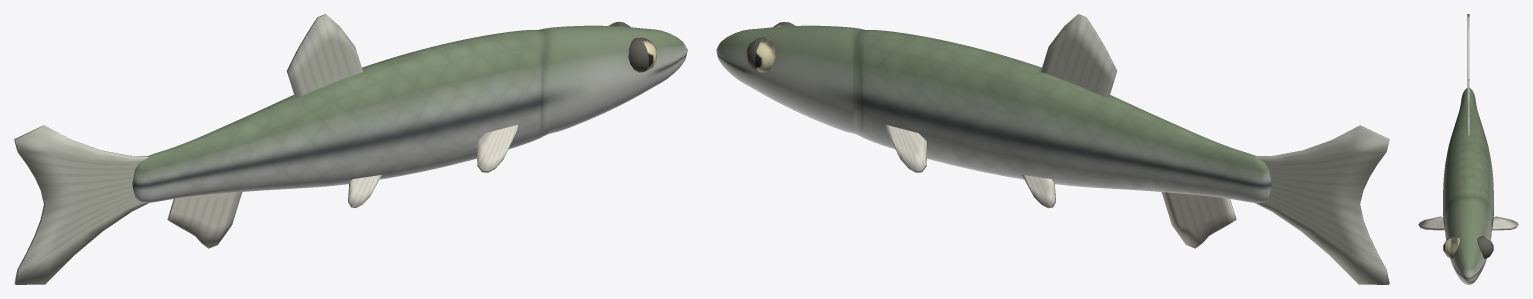
File: fish_minnow.fbx
3 views of the same model, side by side, from view 1: azimuth 30°, elevation 25°; view 2: azimuth 150°, elevation 25°; view 3: azimuth 270°, elevation 25° (orthographic). The views are drawn at different scales.
Visible parts, largest first — view 1: fish_minnow; view 2: fish_minnow; view 3: fish_minnow.
Boxes of the visible parts, x1,y1,x2,y2 form: fish_minnow: (14,14,687,284); fish_minnow: (716,14,1389,284); fish_minnow: (1418,14,1518,284).
Bounding box in the file's own units: 7.97 × 2.32 × 1.57.
1 material, 1 textured.
